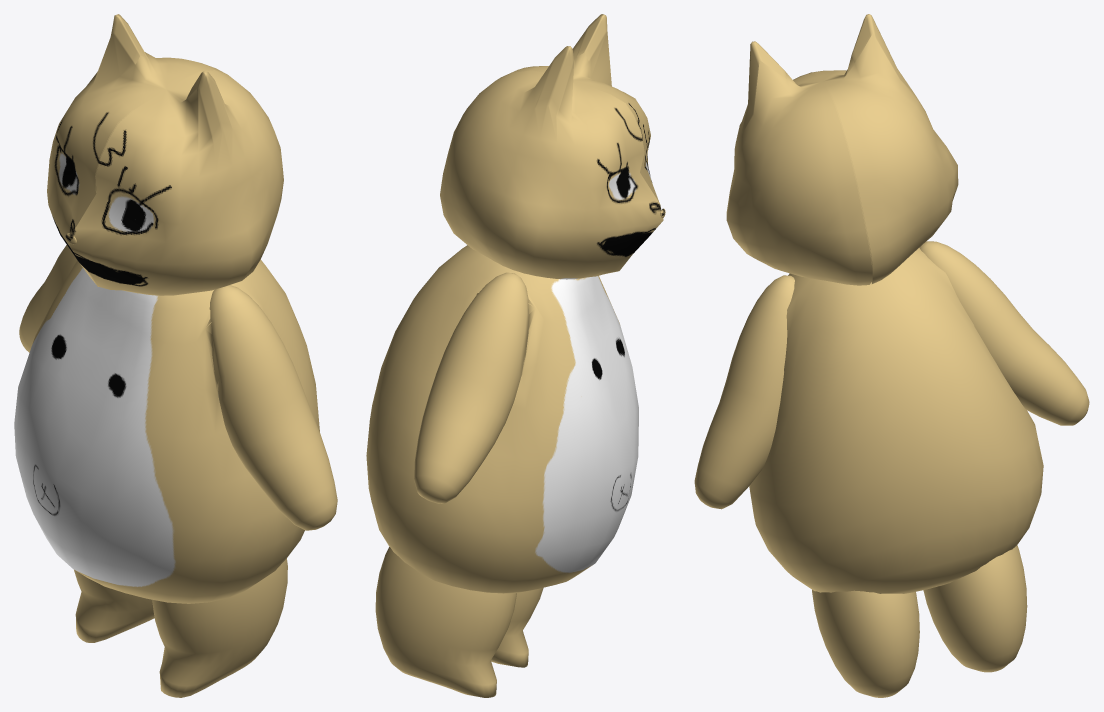
The model's file is asset.glb.
3 views of the same model, side by side, from view 1: azimuth 30°, elevation 25°; view 2: azimuth 150°, elevation 25°; view 3: azimuth 270°, elevation 25° (orthographic). The views are drawn at different scales.
Visible parts, largest first — view 1: mesh_id5, mesh_id6; view 2: mesh_id5, mesh_id6; view 3: mesh_id5, mesh_id6.
Part boxes in pixels (left/top/right/bottom): mesh_id5: left=14, top=245, right=337, bottom=697; mesh_id6: left=47, top=14, right=283, bottom=295; mesh_id5: left=366, top=245, right=638, bottom=697; mesh_id6: left=440, top=14, right=663, bottom=279; mesh_id5: left=694, top=241, right=1089, bottom=697; mesh_id6: left=726, top=14, right=958, bottom=285.
Size of the model in its own units: 0.2077 by 0.5191 by 0.2923.
Materials: 3 (3 with a texture image).
